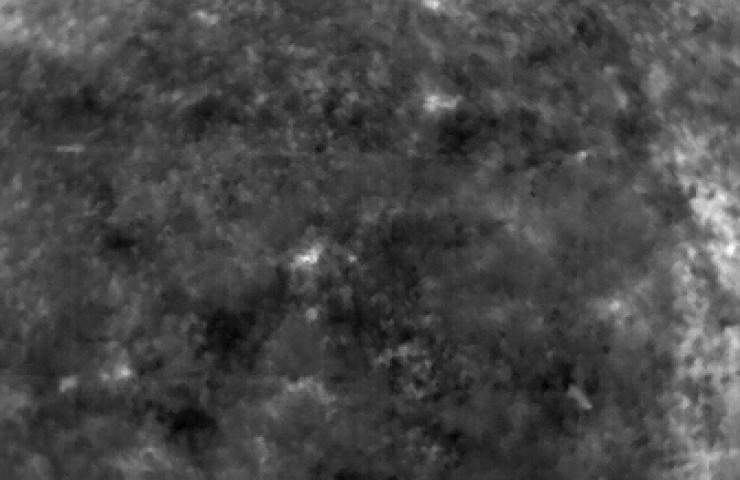landmines: (294, 245, 327, 269)
